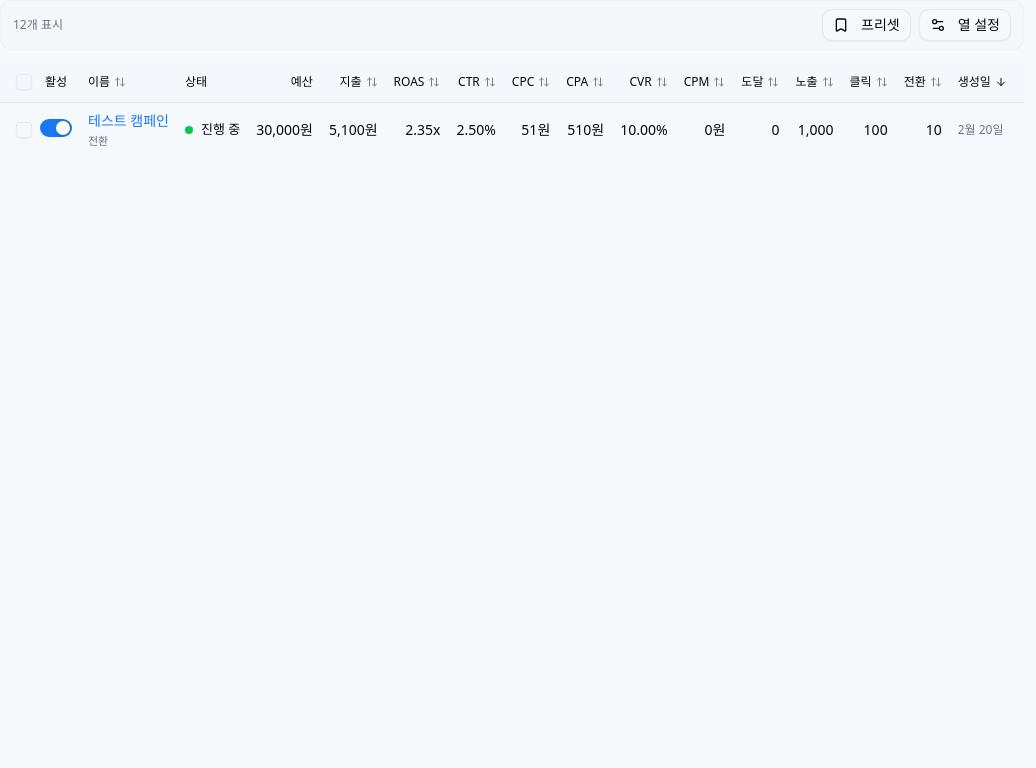
Test: CampaignTable › 열 설정 드롭다운에서 체크박스 형태 지표 목록을 렌더링한다
Click the button "열 설정" at coordinates (965, 25), box [919,9,1011,41]
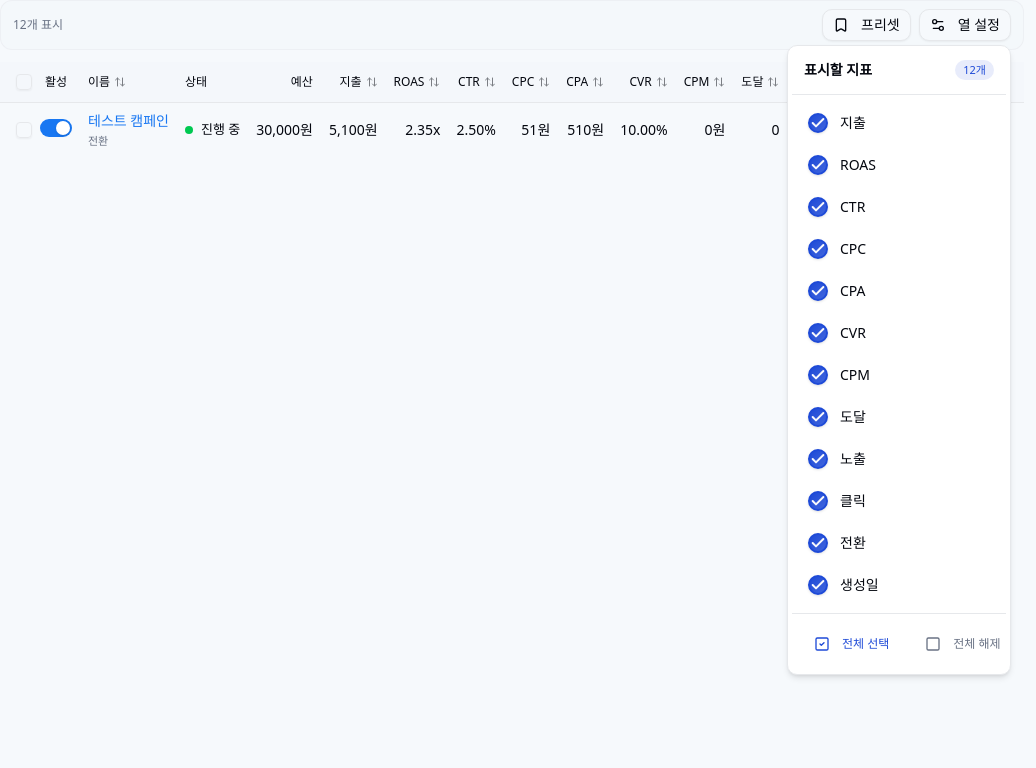
Expected: the text "표시할 지표" is shown, [804,60,872,80]
Expected: the text "12개" is shown, [955,60,994,80]
Expected: the menu item "지출" is shown, [808,113,866,133]
